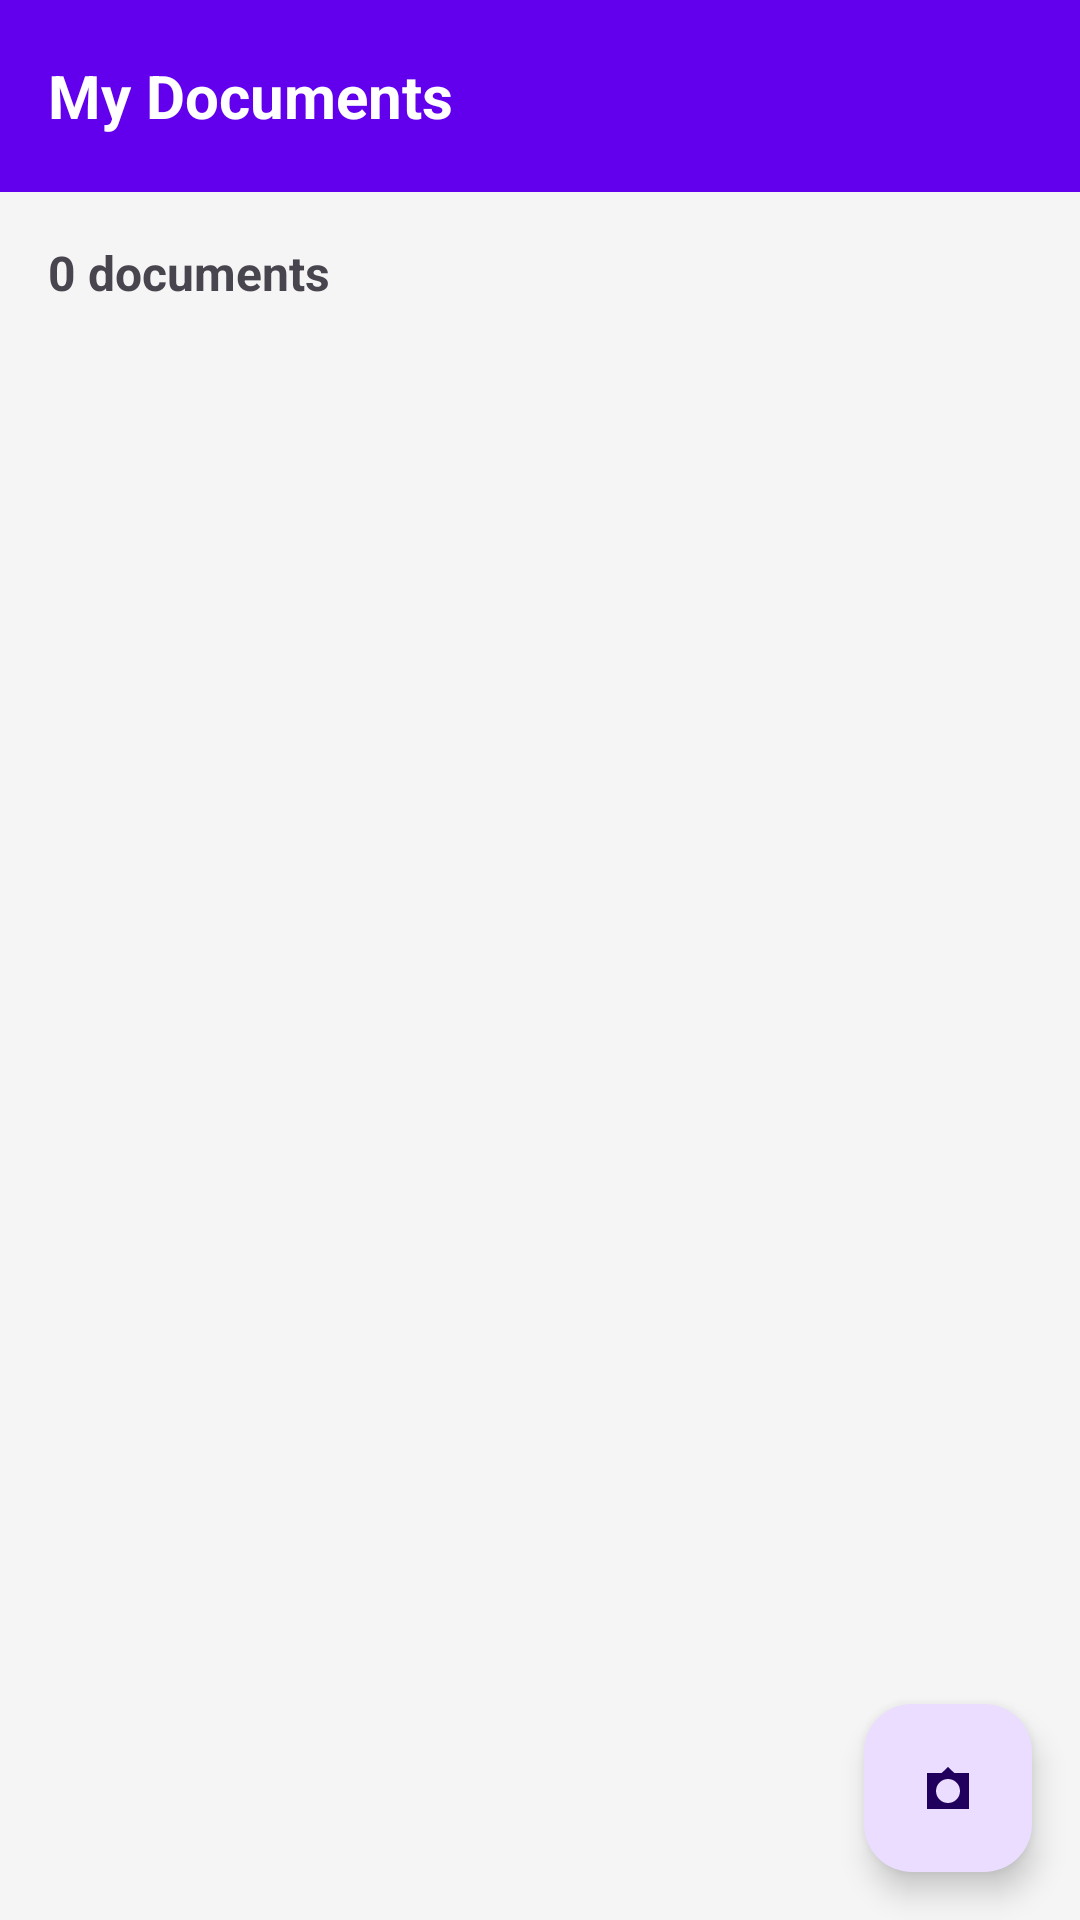

Named icons in this screenshot (1080 x 1920) and their centers, [x,y]:
New Scan: [948,1788]
